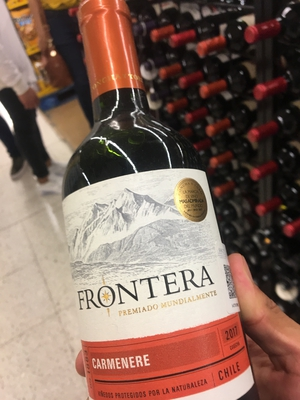frontera carmenere: (38, 22, 242, 400)
